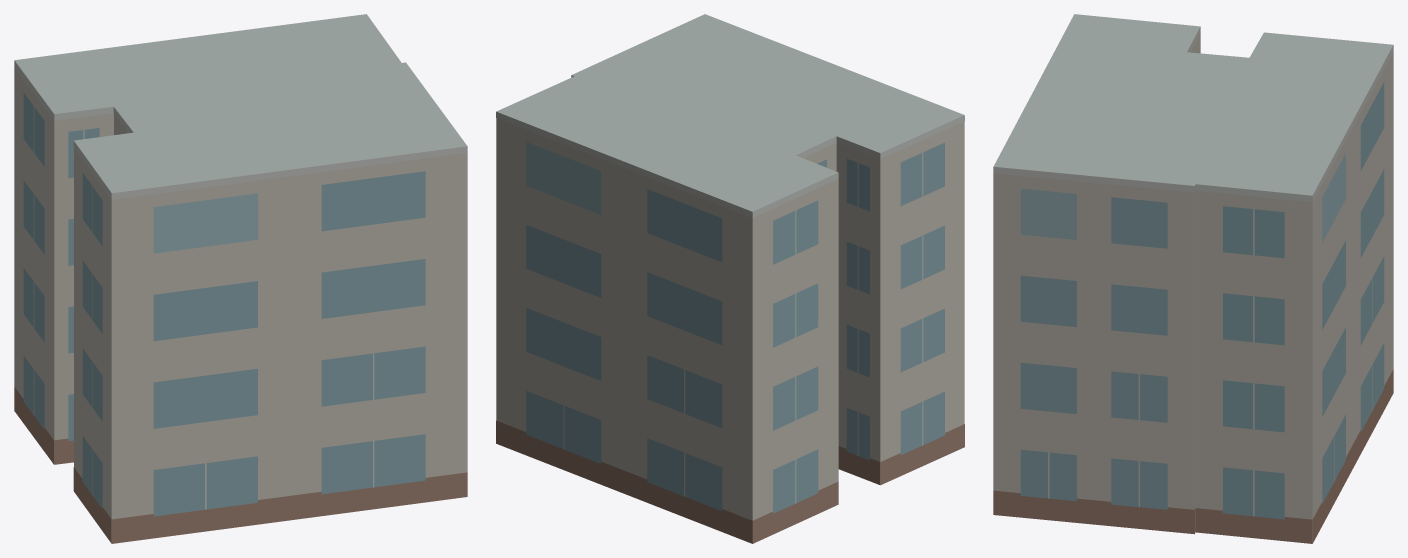
The model's file is survey-upis-32658069.glb.
3 renders of one model, left to right at view 1: azimuth 30°, elevation 25°; view 2: azimuth 150°, elevation 25°; view 3: azimuth 270°, elevation 25°, orthographic. The views are drawn at different scales.
Visible parts, largest first — view 1: survey-upis-32658069.tmp; view 2: survey-upis-32658069.tmp; view 3: survey-upis-32658069.tmp.
Part boxes in pixels (bbox=[...]): survey-upis-32658069.tmp: bbox=[14, 14, 467, 543]; survey-upis-32658069.tmp: bbox=[496, 14, 964, 543]; survey-upis-32658069.tmp: bbox=[993, 14, 1393, 543].
Bounding box in the file's own units: 14.45 × 12.9 × 13.45.
